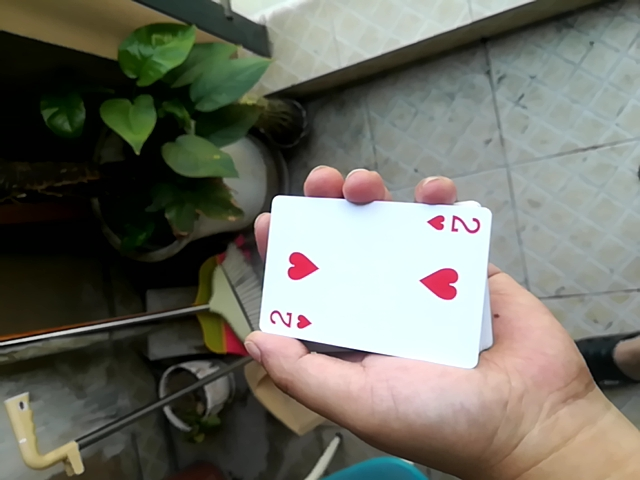hx 2: (248, 184, 486, 356)
